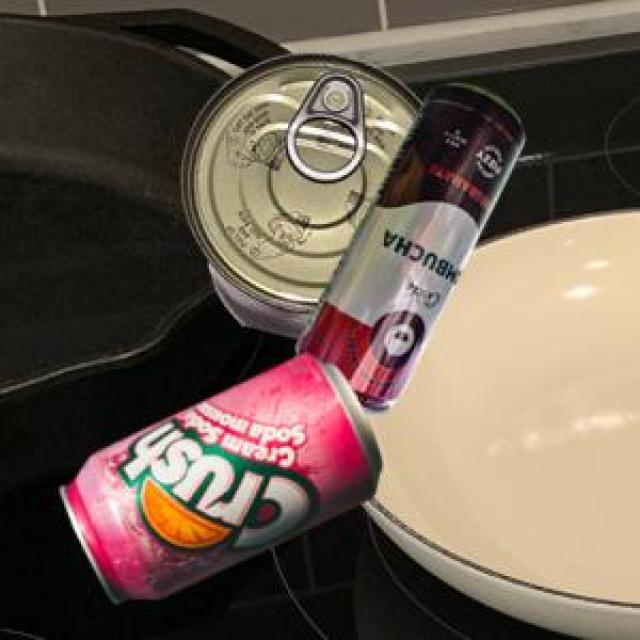logam: (57, 351, 379, 601), (293, 80, 522, 411), (178, 50, 419, 336)
